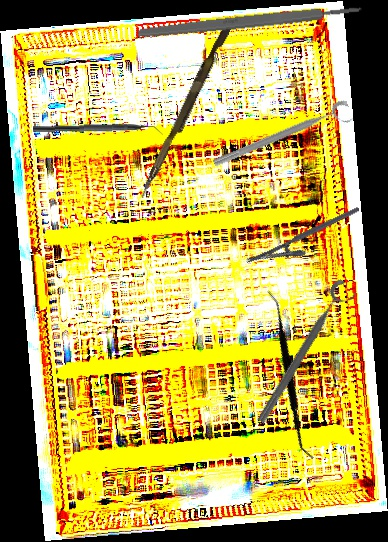Chopper: (32, 121, 164, 142)
Fixation Ring: (253, 277, 360, 431), (210, 98, 356, 179)
Needle Holder: (244, 205, 368, 280)
Pusher: (138, 23, 232, 202)
Scalpel Handle: (135, 3, 364, 40)
Spatula Surgical: (207, 289, 374, 460)
